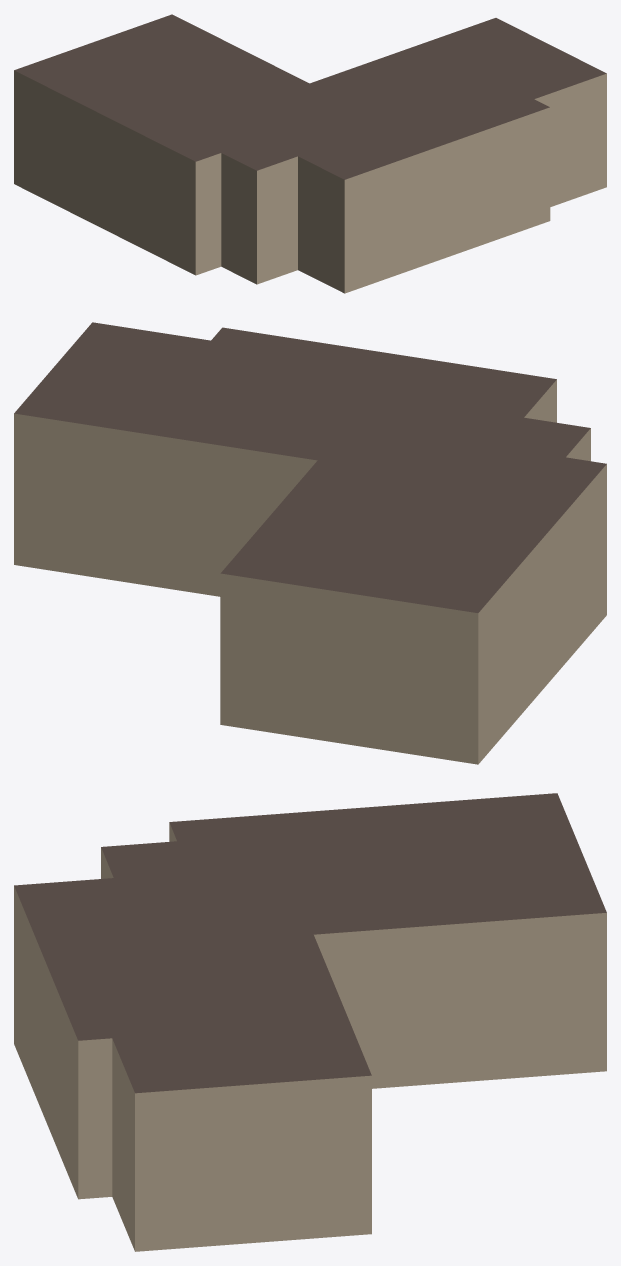
3 views of the same model, one above another, from view 1: azimuth 30°, elevation 25°; view 2: azimuth 150°, elevation 25°; view 3: azimuth 270°, elevation 25° (orthographic). The views are drawn at different scales.
Parts seen in each view (by area): view 1: HP-w859424131; view 2: HP-w859424131; view 3: HP-w859424131.
Part boxes in pixels (x1,y1,x2,y2): HP-w859424131: (14,14,606,293); HP-w859424131: (14,322,606,764); HP-w859424131: (14,793,606,1251).
Size of the model in its own units: 36.55 by 9 by 30.51.
